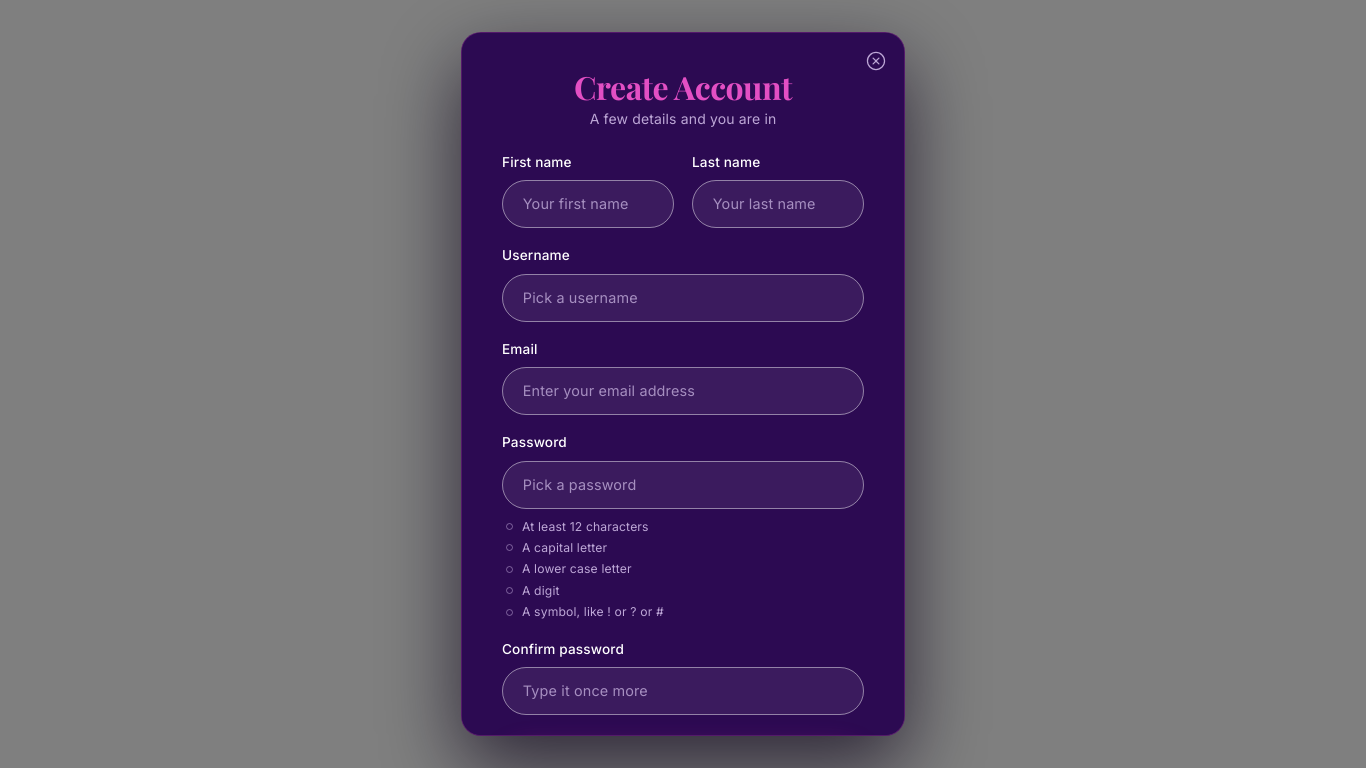
Scenario: what it refuses to send › checks every box before asking the API for anything
The width and height of the screenshot is (1366, 768).
Type "Marcus" into the field labelled "First name". click: (588, 204)
box: [502,180,674,228]
Type "Wright" into the field labelled "Last name". click: (778, 204)
box: [692,180,864,228]
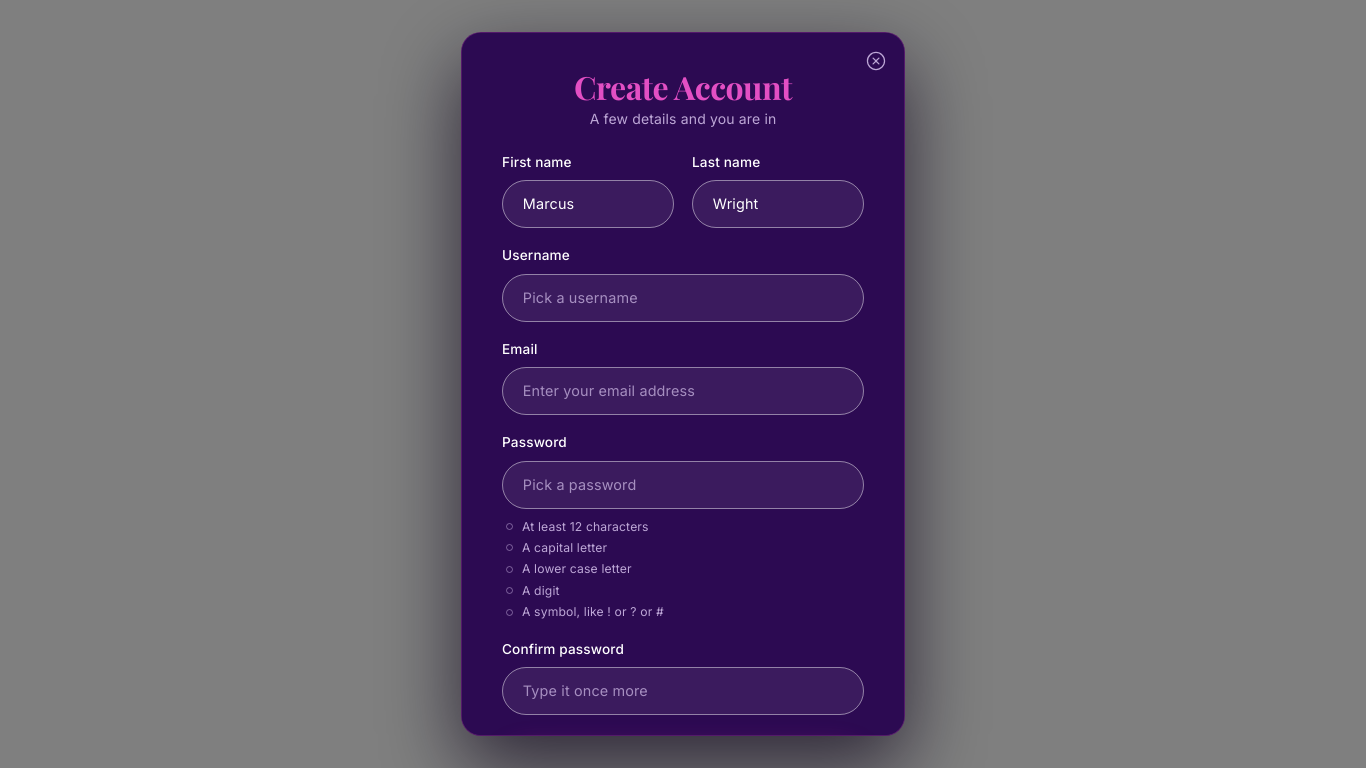
Type "me" into the field labelled "Username". click: (683, 298)
box: [502,274,864,322]
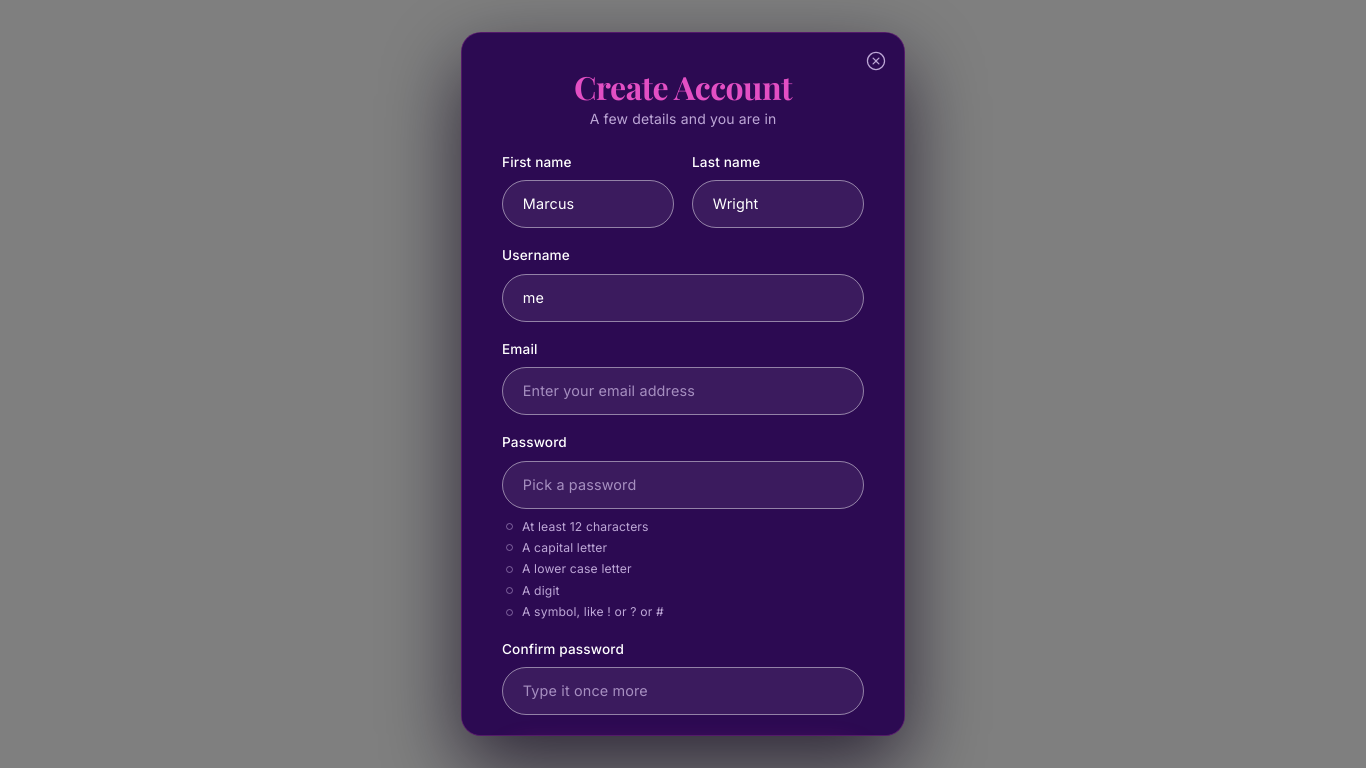
Type "not-an-address" into the field labelled "Email". click: (683, 391)
box: [502,367,864,415]
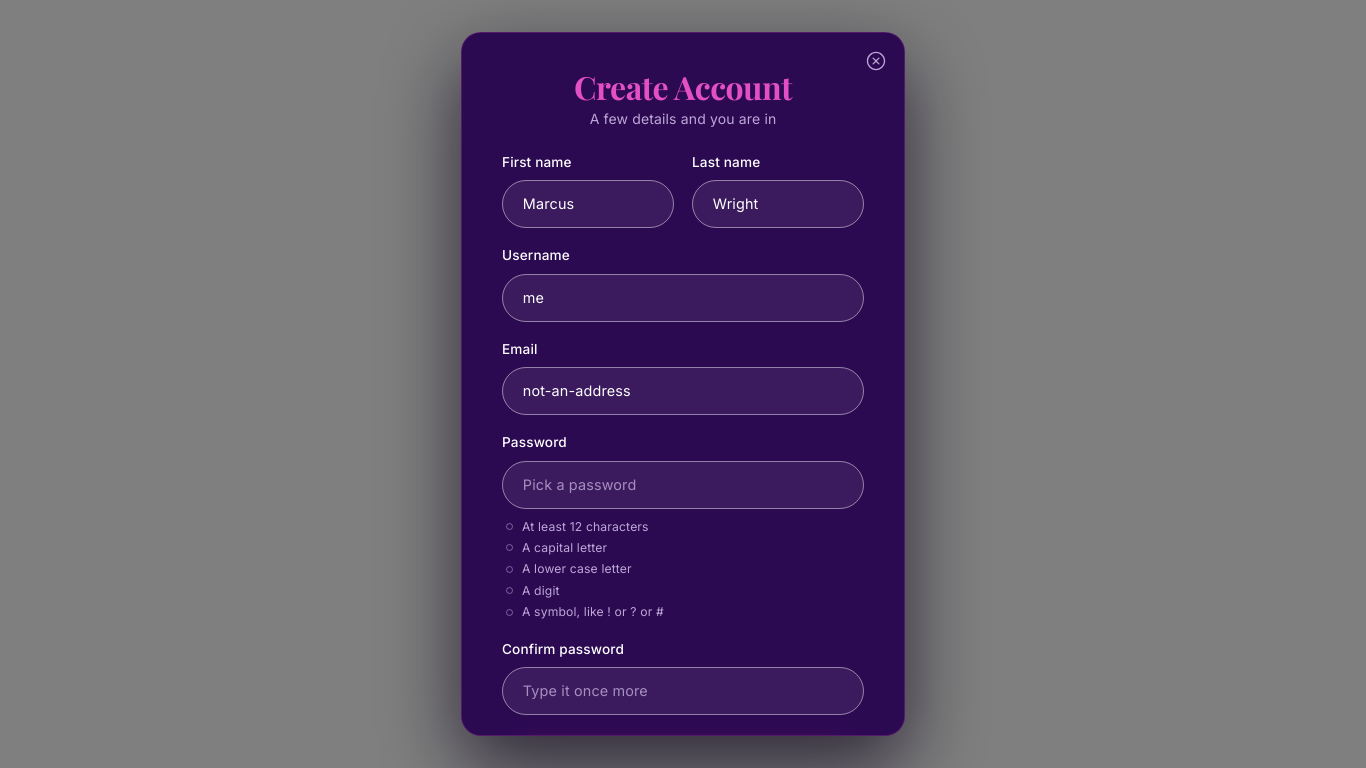
Type "Trombone-42-Fig" into the password field labelled "Password". click: (683, 485)
box: [502,461,864,509]
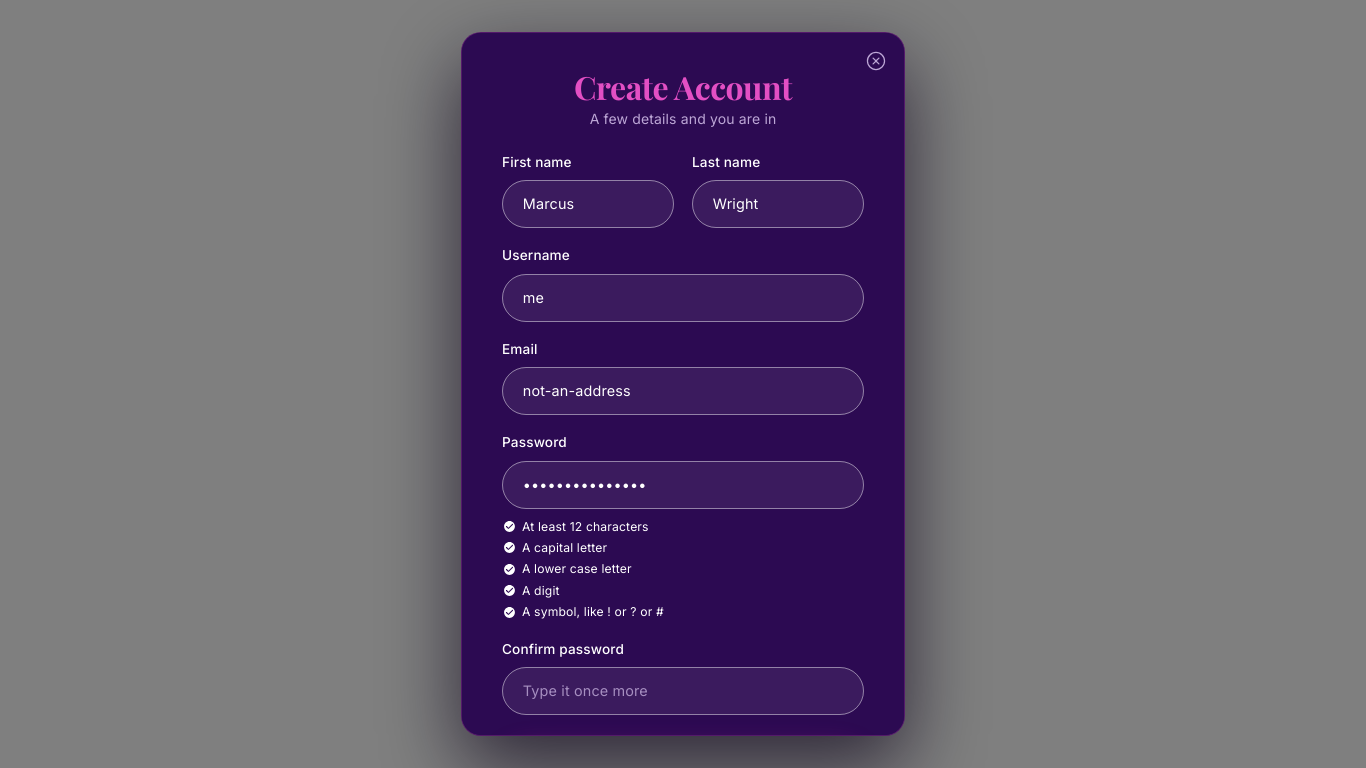
Type "Trombone-42-Fig" into the password field labelled "Confirm password". click: (683, 691)
box: [502,667,864,715]
(page scrolled)
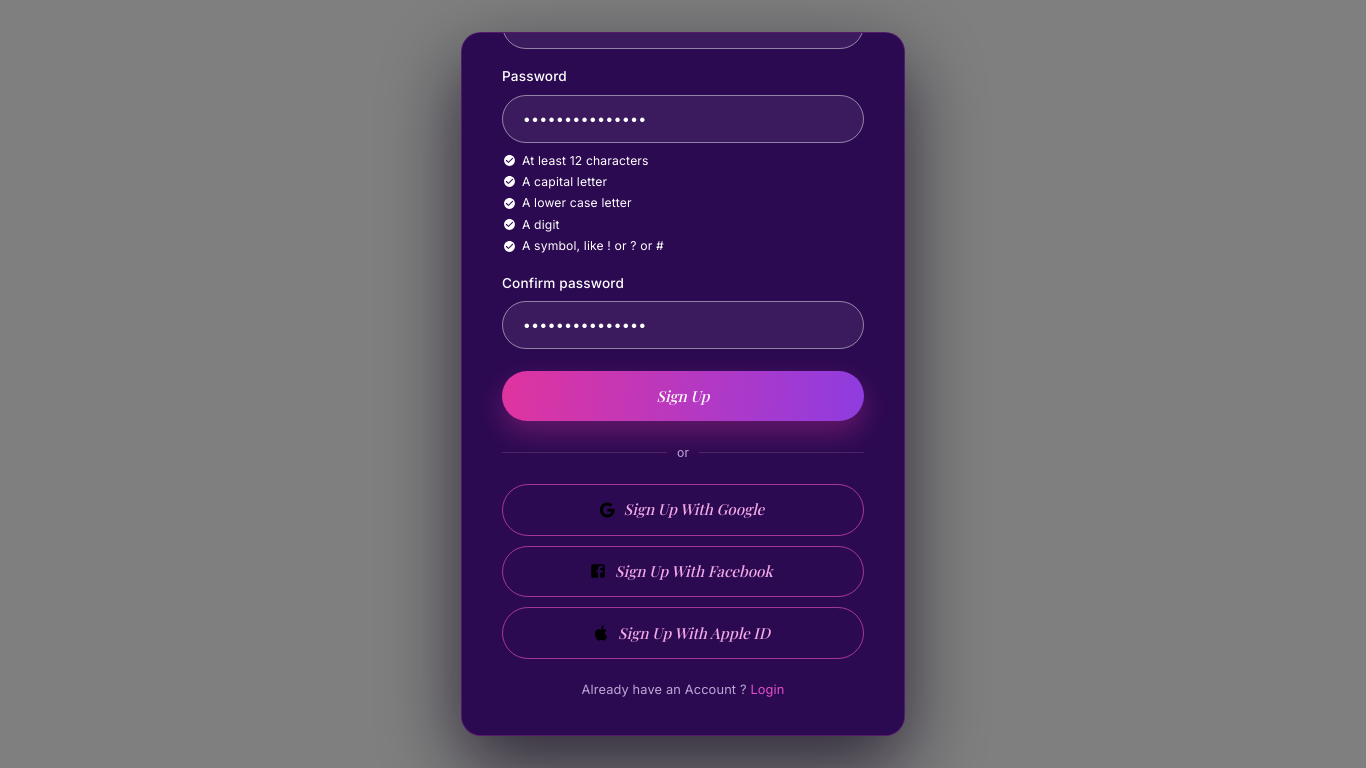
Click the button "Sign Up". click: click(683, 396)
box: [502,371,864,421]
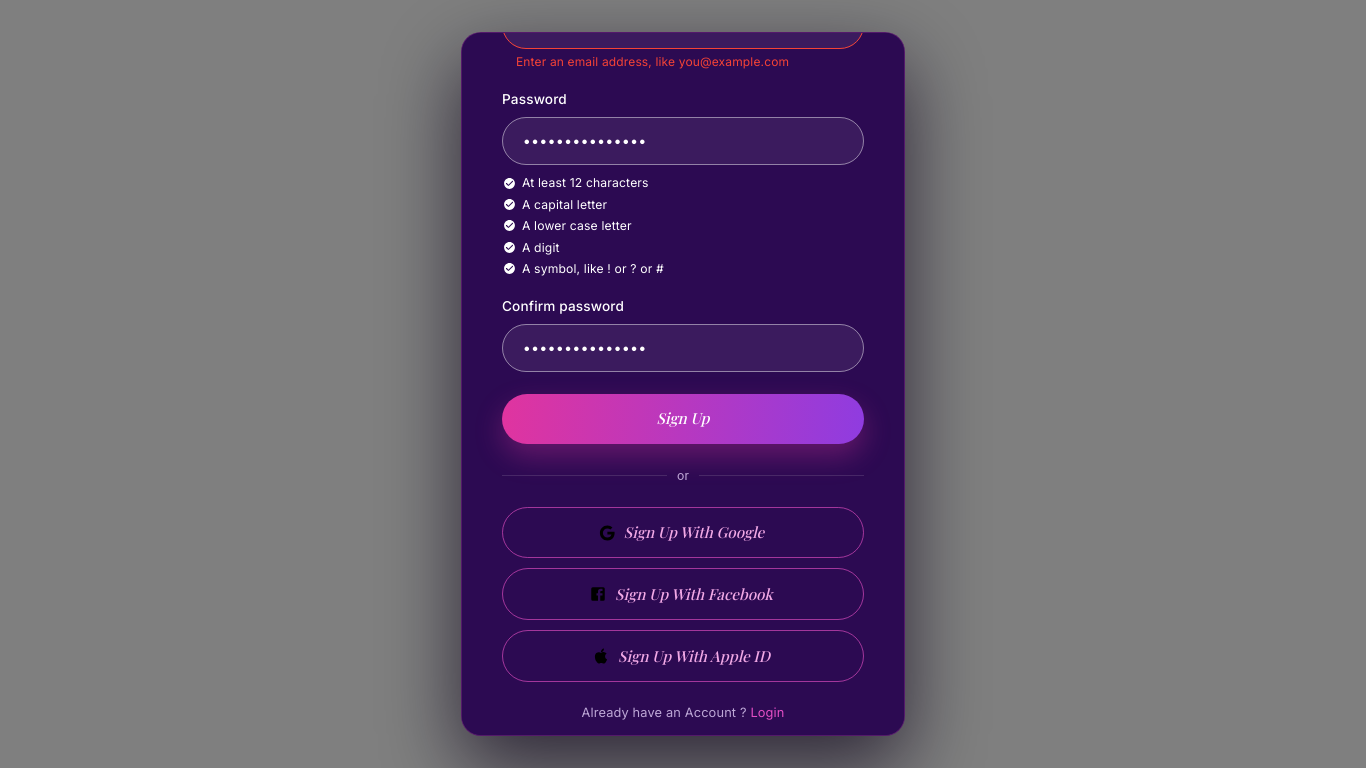
Expected: the text "Enter an email address, like you@example.com" is shown, [516,54,789,69]
